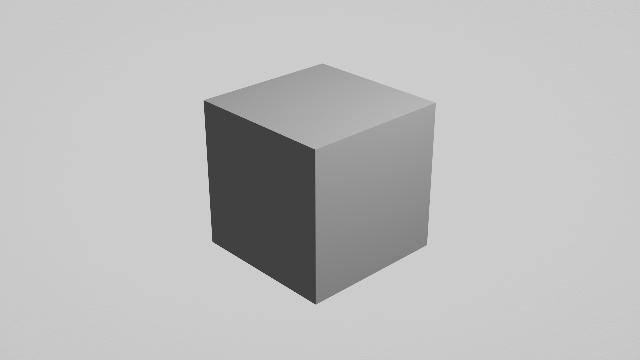Cube: (188, 56, 454, 310)
